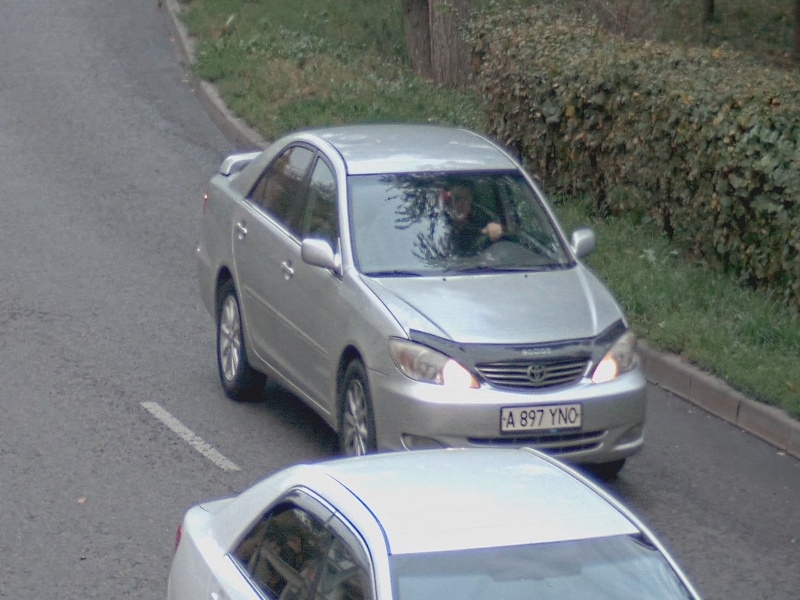plate: (498, 401, 584, 434)
